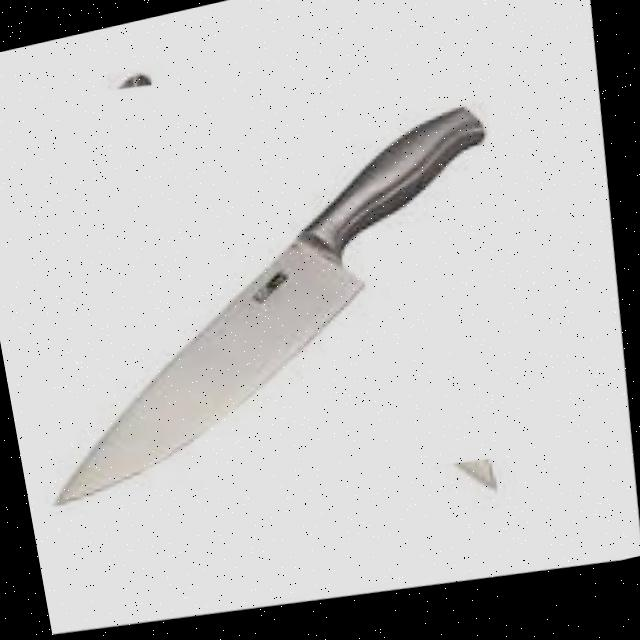knife: (0, 102, 533, 511)
